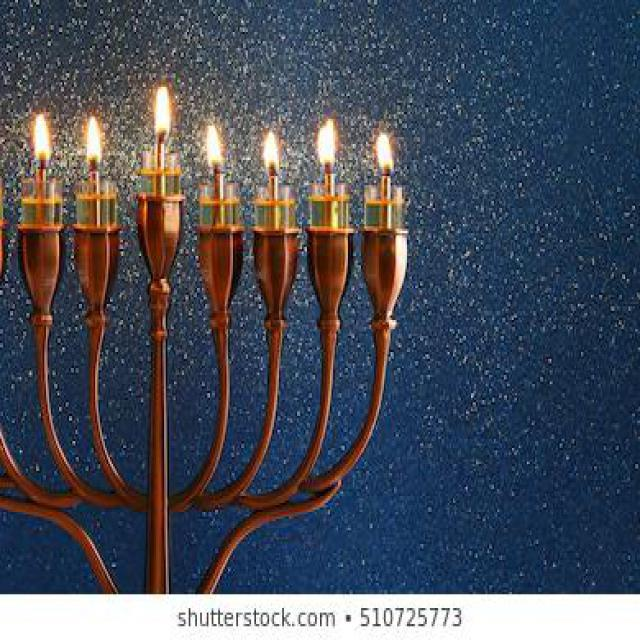Fire: (316, 118, 338, 168), (154, 84, 172, 138), (34, 112, 51, 167), (375, 131, 395, 175), (262, 132, 280, 177), (206, 124, 222, 172), (88, 118, 102, 170)
